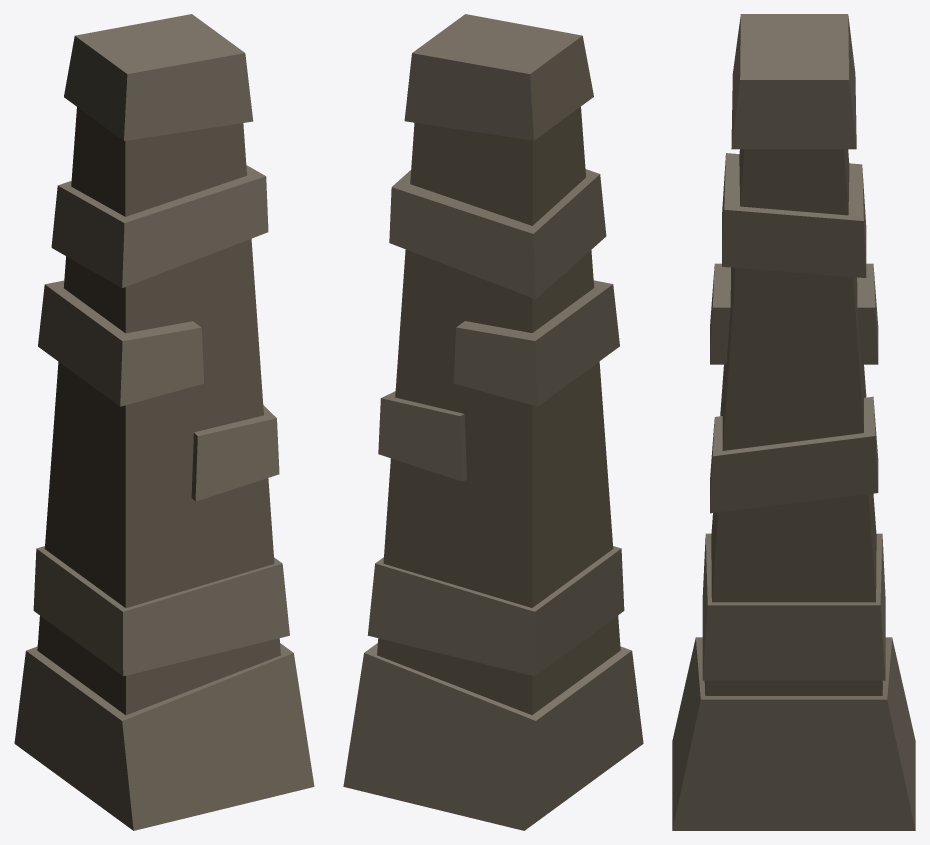
Rendered from Fence_Stone_End_02.gltf.
3 views of the same model, side by side, from view 1: azimuth 30°, elevation 25°; view 2: azimuth 150°, elevation 25°; view 3: azimuth 270°, elevation 25° (orthographic). The views are drawn at different scales.
Parts seen in each view (by area): view 1: SF_Prop_Fence_Stone_End_02; view 2: SF_Prop_Fence_Stone_End_02; view 3: SF_Prop_Fence_Stone_End_02.
Part boxes in pixels (bbox=[...]): SF_Prop_Fence_Stone_End_02: bbox=[14, 14, 314, 830]; SF_Prop_Fence_Stone_End_02: bbox=[343, 14, 643, 830]; SF_Prop_Fence_Stone_End_02: bbox=[672, 14, 915, 830].
Size of the model in its own units: 0.013 by 0.0498 by 0.0148.
Materials: 1 (1 with a texture image).
